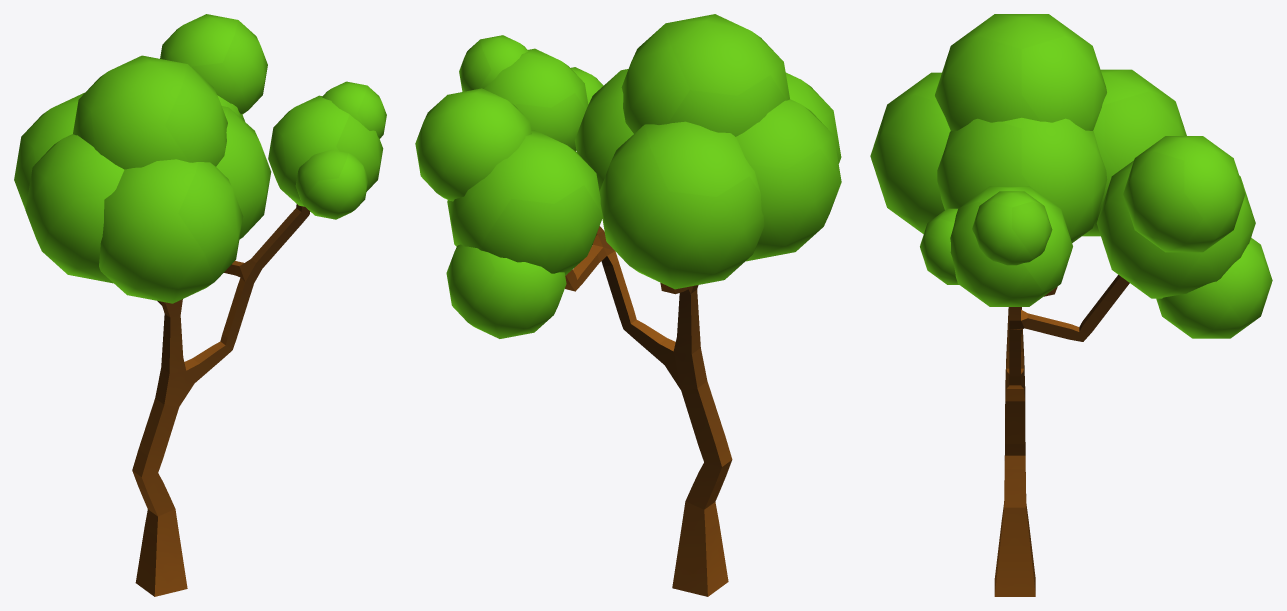
File: Tree 1.glb
3 renders of one model, left to right at view 1: azimuth 30°, elevation 25°; view 2: azimuth 150°, elevation 25°; view 3: azimuth 270°, elevation 25°, orthographic. The views are drawn at different scales.
Parts seen in each view (by area): view 1: Plane.002; view 2: Plane.002; view 3: Plane.002.
Boxes of the visible parts, x1,y1,x2,y2 form: Plane.002: [14, 14, 386, 596]; Plane.002: [415, 14, 841, 596]; Plane.002: [870, 14, 1272, 596].
Bounding box in the file's own units: 3.5 × 5.17 × 3.33.
Materials: 1 (1 with a texture image).
